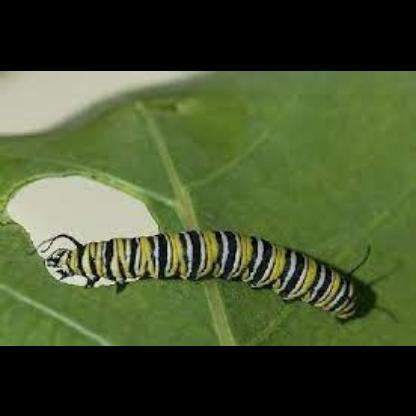agujero: (3, 172, 159, 292)
